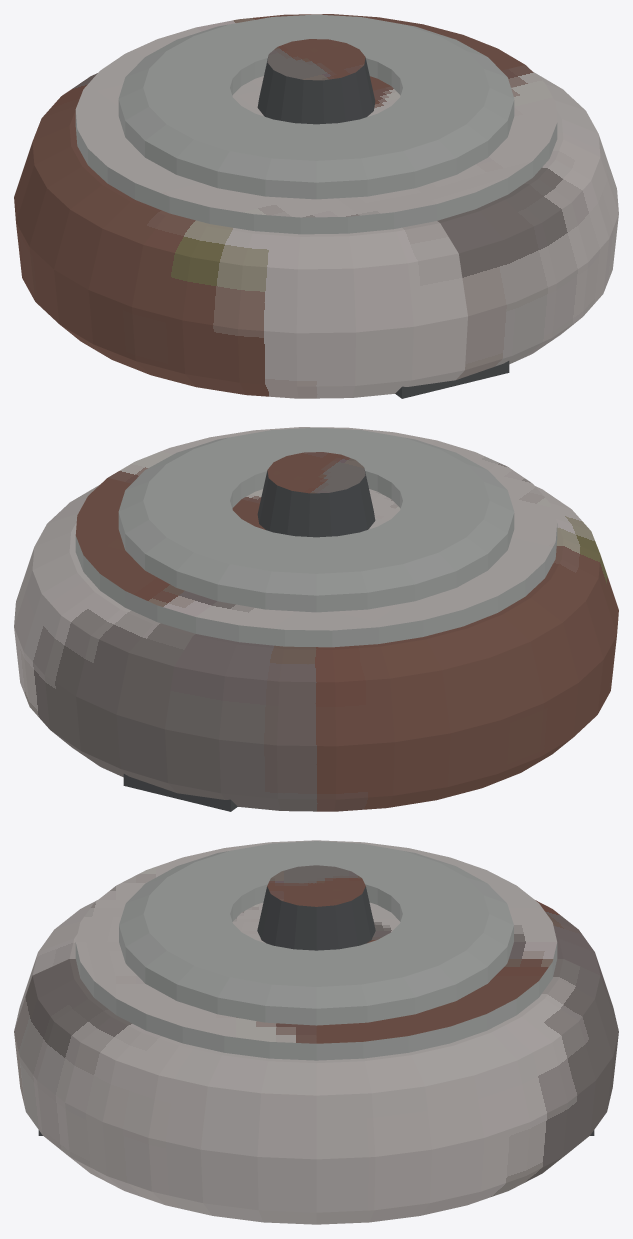
File: Building_AncientWheel.glb
3 views of the same model, one above another, from view 1: azimuth 30°, elevation 25°; view 2: azimuth 150°, elevation 25°; view 3: azimuth 270°, elevation 25° (orthographic).
Visible parts, largest first — view 1: AncientWheel; view 2: AncientWheel; view 3: AncientWheel.
Boxes of the visible parts, box(x1,y1,x2,y2) form: AncientWheel: box(14, 14, 618, 398); AncientWheel: box(14, 427, 618, 811); AncientWheel: box(14, 840, 618, 1224).
Bounding box in the file's own units: 0.98 × 0.4 × 0.98.
Materials: 1 (1 with a texture image).
